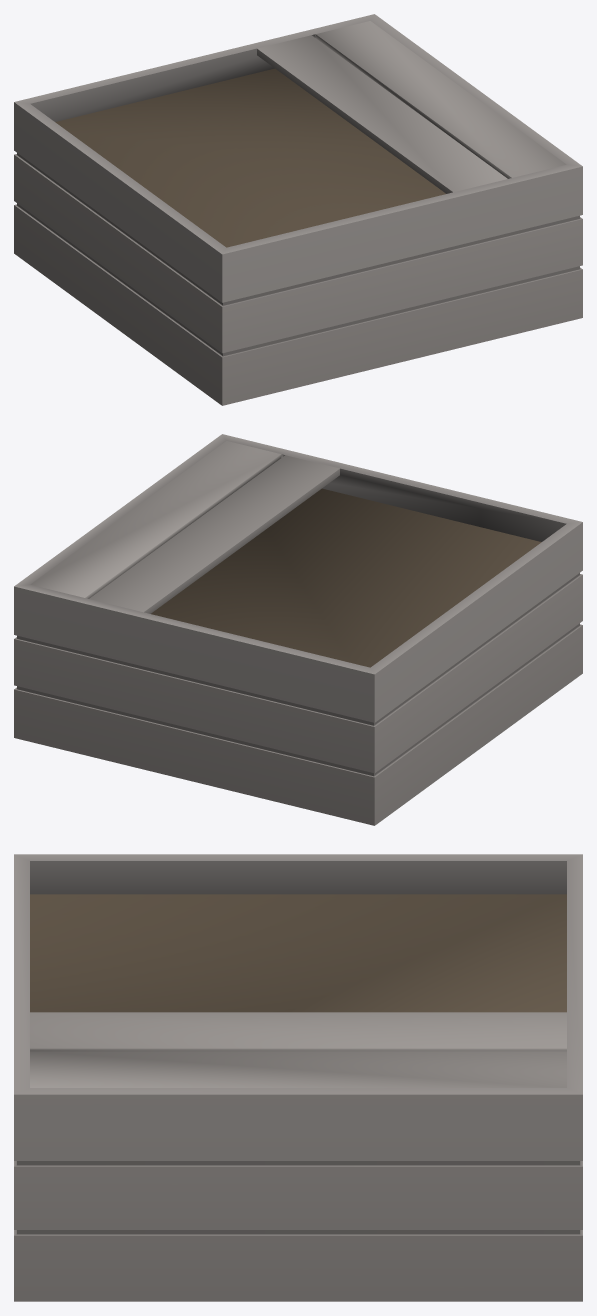
File: flowerbed 3.fbx
The picture shows the model from 3 angles, top to bottom: view 1: azimuth 30°, elevation 25°; view 2: azimuth 150°, elevation 25°; view 3: azimuth 270°, elevation 25°; orthographic projection. The views are drawn at different scales.
Visible parts, largest first — view 1: Cube.001; view 2: Cube.001; view 3: Cube.001.
Part boxes in pixels (left/top/right/bottom): Cube.001: left=14, top=14, right=582, bottom=405; Cube.001: left=14, top=434, right=582, bottom=825; Cube.001: left=14, top=854, right=582, bottom=1301.
Size of the model in its own units: 170 by 68.32 by 170.
